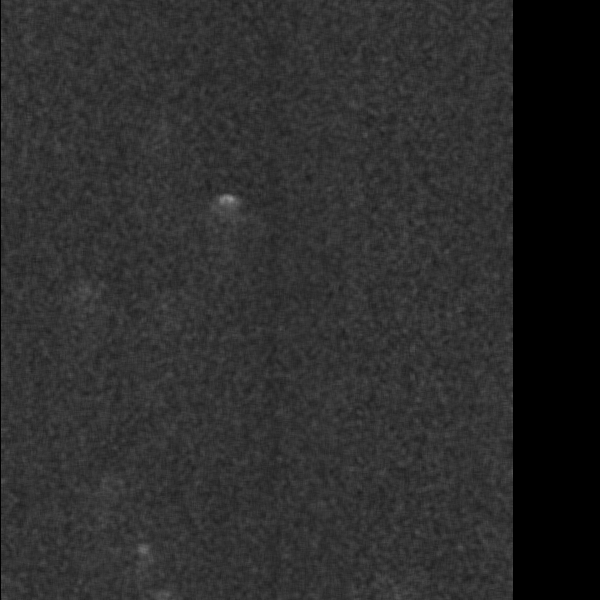spark: (30, 133, 66, 182)
